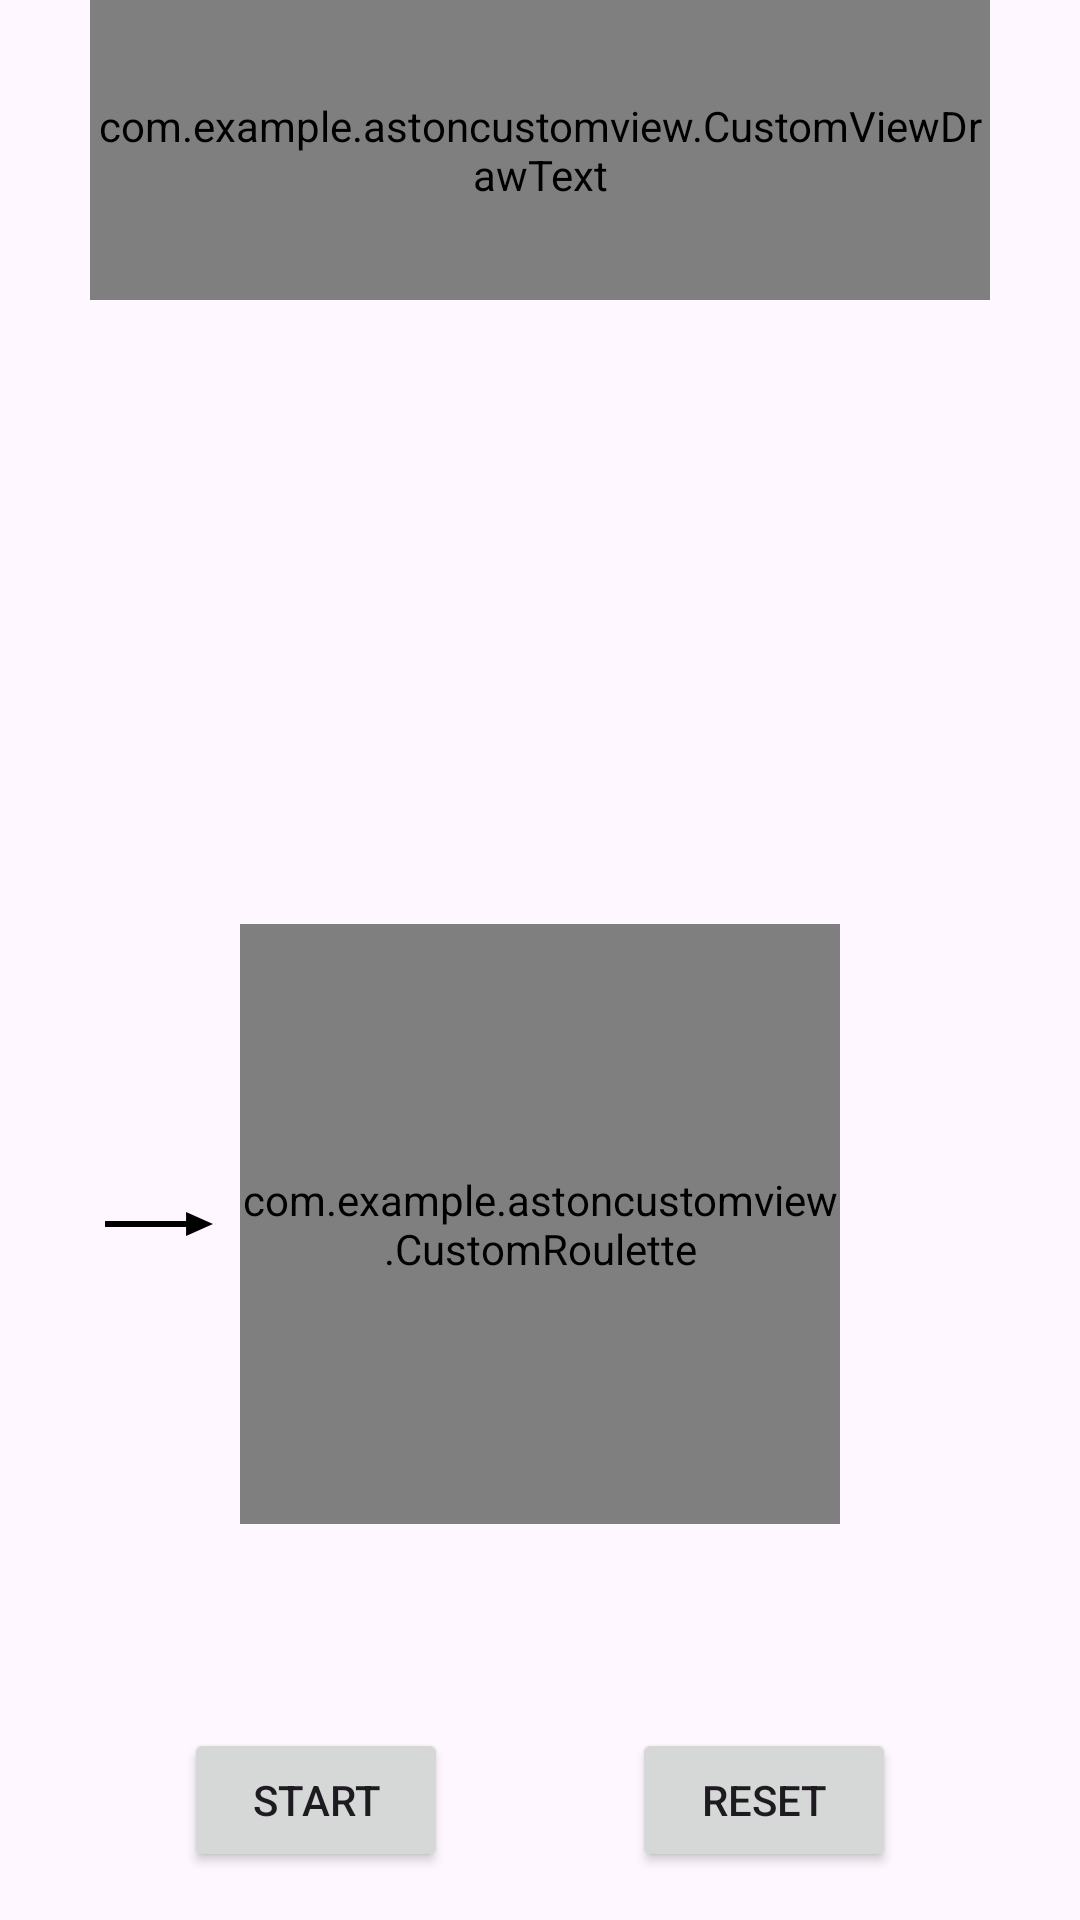

Icon bounding boxes for this 1080px x 1920px phone screenshot, format (x1, y1, x2, y2):
arrow right: (105, 1212, 213, 1236)
